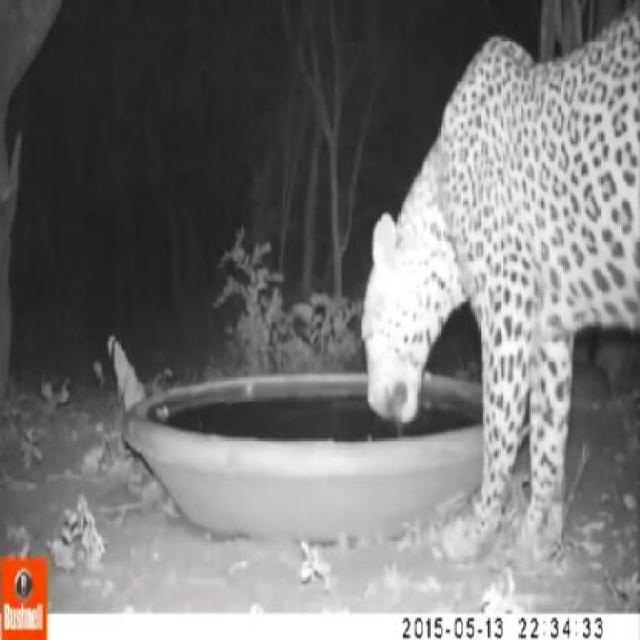Leopard: (350, 14, 638, 552)
